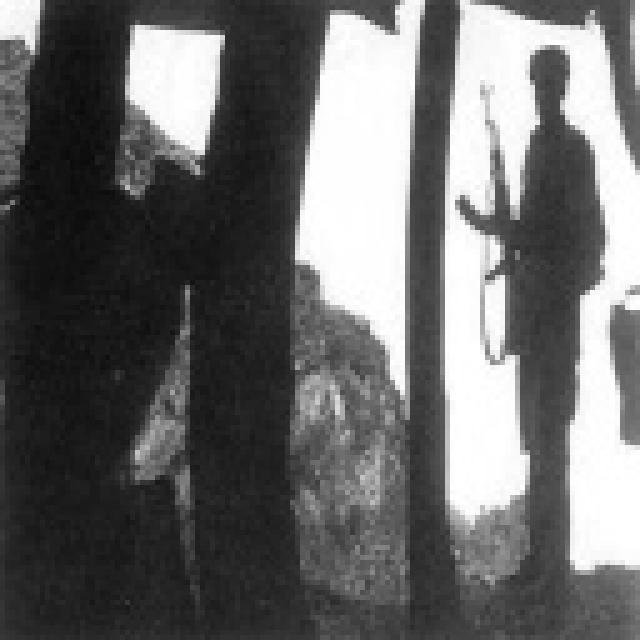Rifle: (446, 66, 557, 400)
